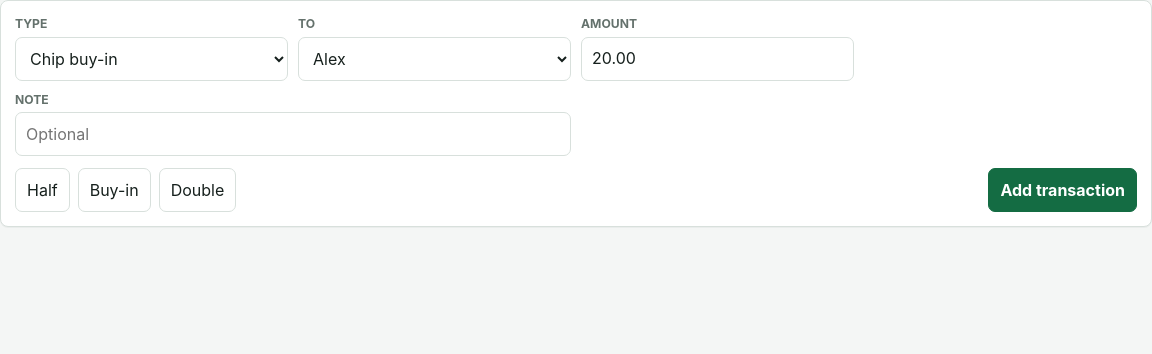
Test: TransactionForm › keeps transfer participants independent from the bank player
Select "Player gave" in the dropdown labelled "Type" at (152, 59), box [15,37,288,81]
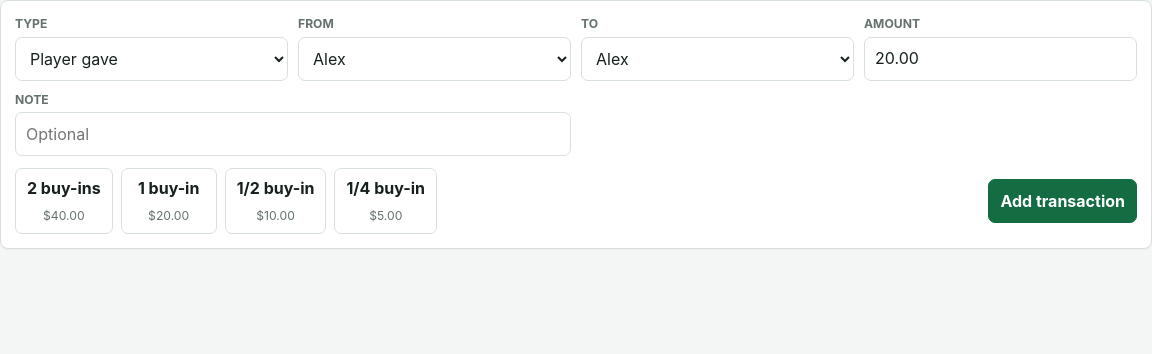
Select "Blair" in the dropdown labelled "From" at (434, 59), box [298,37,571,81]
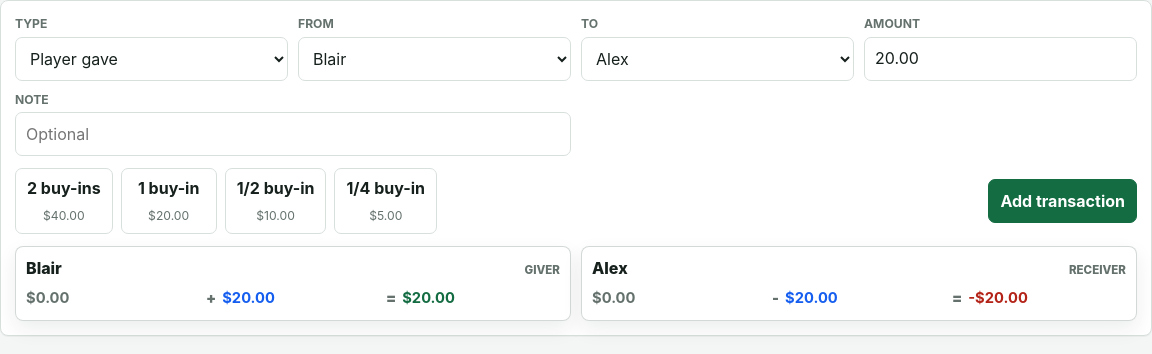
Select "Chip buy-in" in the dropdown labelled "Type" at (152, 59), box [15,37,288,81]
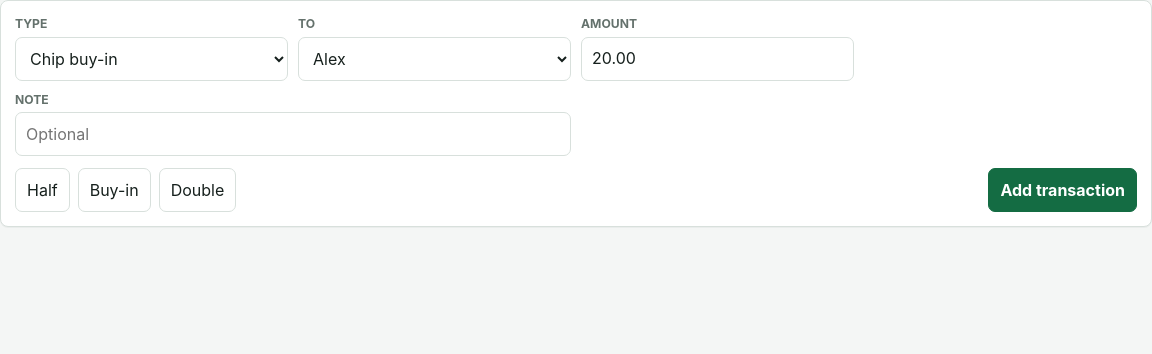
Select "Partial cash-out" in the dropdown labelled "Type" at (152, 59), box [15,37,288,81]
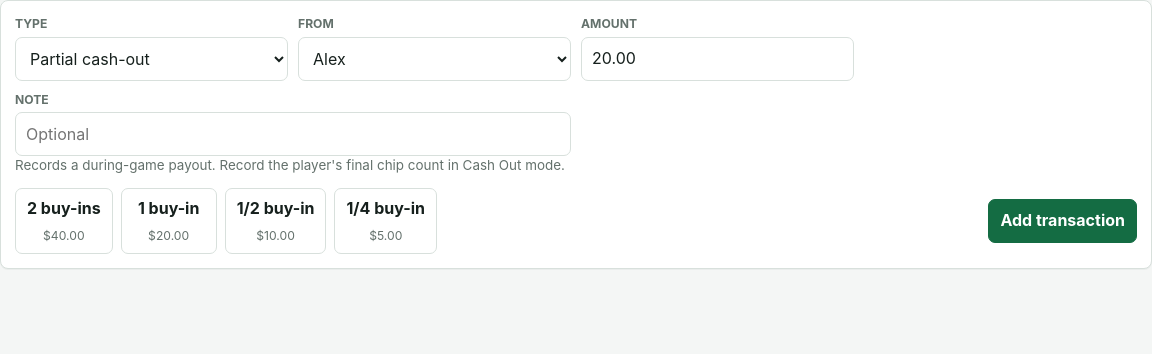
Expected: the dropdown labelled "From" shows "Alex", [298,37,571,81]
Select "Player gave" in the dropdown labelled "Type" at (152, 59), box [15,37,288,81]
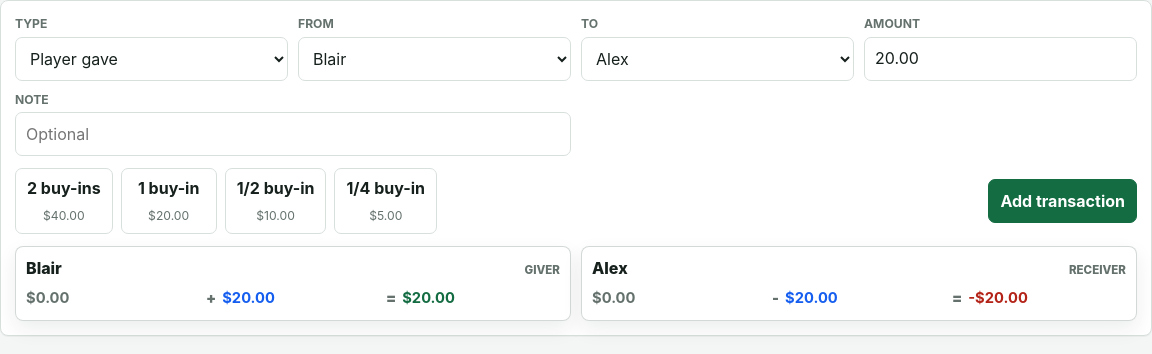
Expected: the dropdown labelled "From" shows "Blair", [298,37,571,81]
Expected: the dropdown labelled "To" shows "Alex", [581,37,854,81]
